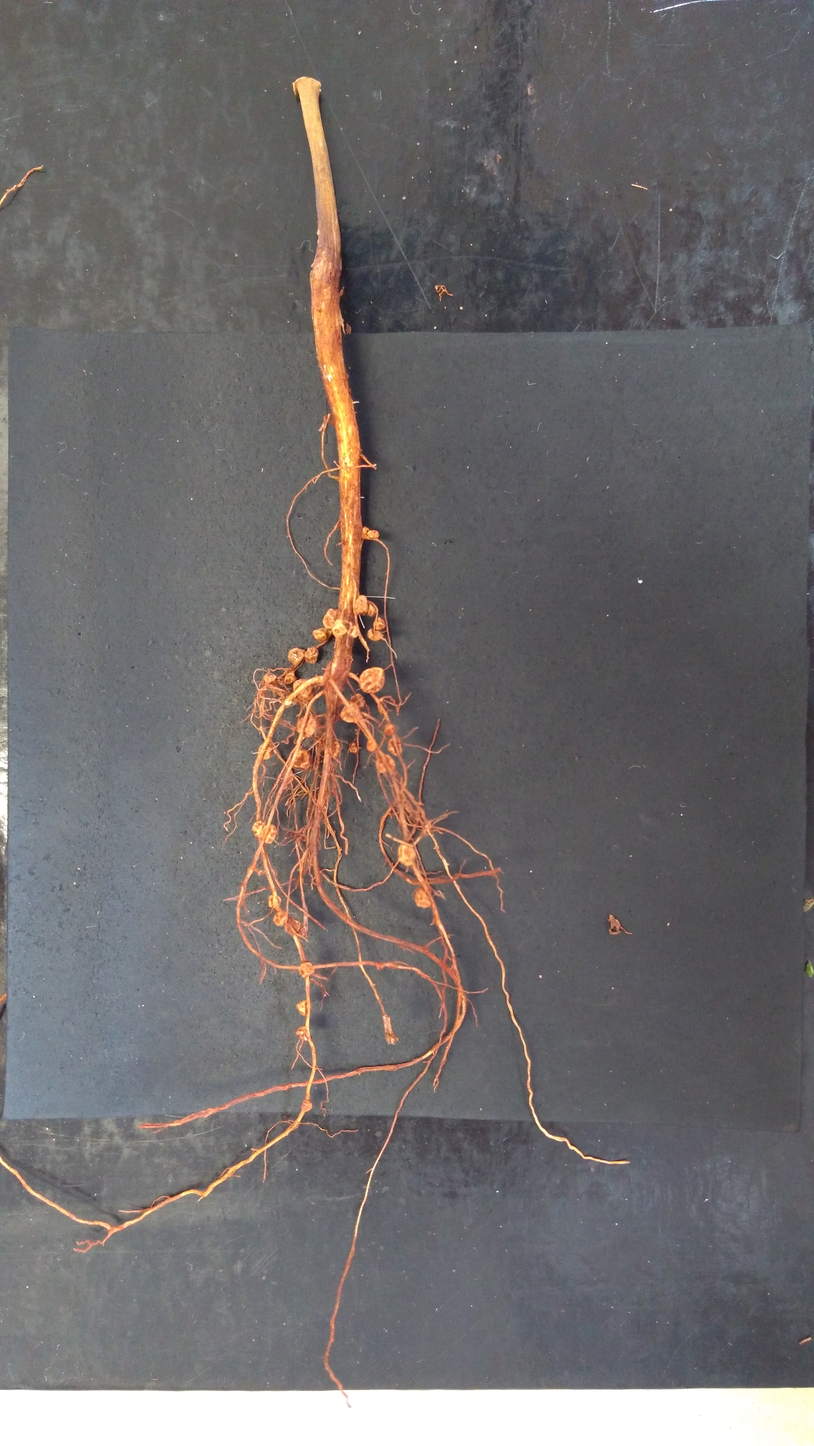nodule: (356, 666, 388, 695), (338, 700, 363, 726), (289, 747, 314, 772), (295, 714, 319, 739), (396, 843, 419, 868), (375, 754, 397, 775), (284, 646, 306, 667), (411, 887, 432, 909), (321, 607, 339, 631), (348, 692, 369, 712), (256, 742, 275, 763), (311, 627, 334, 644), (353, 593, 369, 616), (385, 738, 404, 757), (283, 916, 301, 934), (261, 824, 277, 844), (305, 645, 320, 666), (331, 619, 348, 637), (298, 961, 316, 978), (251, 820, 266, 839), (361, 525, 381, 539), (295, 998, 309, 1018), (272, 910, 288, 927), (366, 627, 384, 642), (299, 685, 313, 702), (283, 671, 298, 685), (291, 678, 306, 692), (295, 1025, 309, 1040), (366, 599, 377, 617), (268, 894, 282, 908), (383, 723, 397, 736), (262, 673, 277, 685), (300, 1099, 313, 1112), (365, 739, 377, 752), (347, 625, 359, 638), (373, 617, 385, 629), (332, 741, 341, 757), (349, 742, 358, 754)
